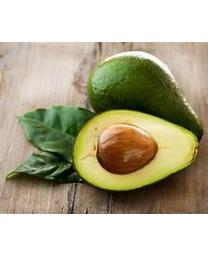avocado: (87, 50, 203, 153), (72, 109, 199, 192)
